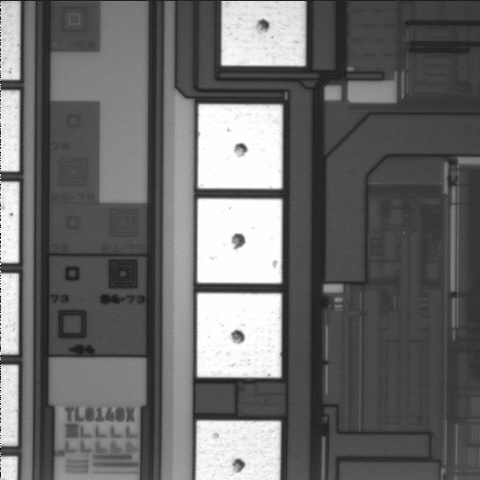pad: (198, 104, 283, 189), (197, 198, 282, 283), (197, 293, 282, 378)
